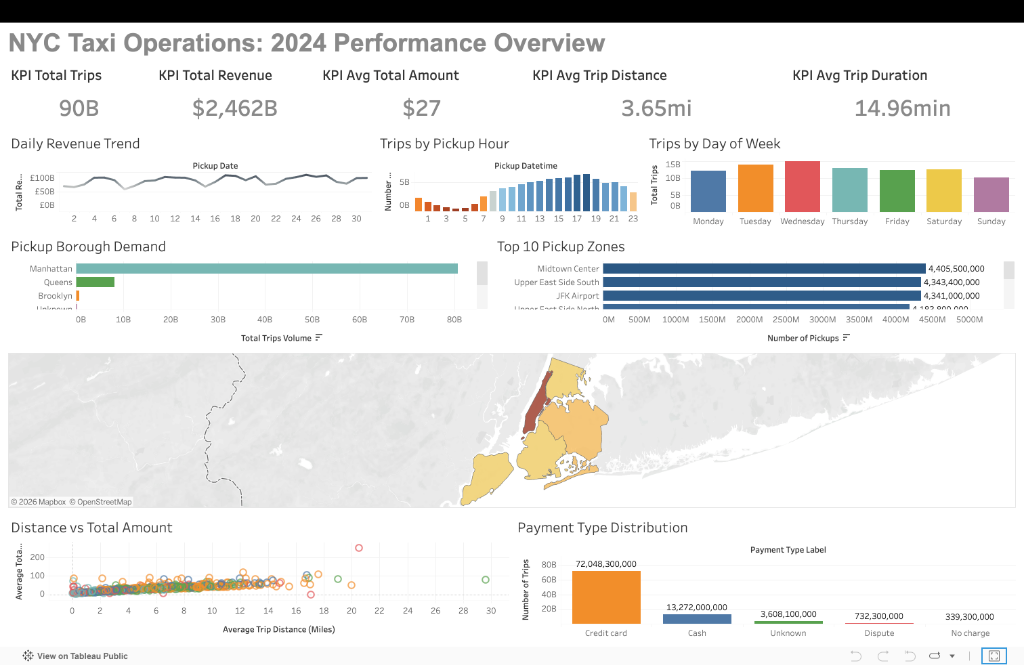

The page's visual inventory and layout, read from the dashboard file:
{"tool":"tableau","page":{"name":"Dashboard 1","canvas":[1000,1000],"units":"permille","ordinal":0},"visuals":[{"type":"text","box":[6.2,10.4,987.7,61.7]},{"type":"worksheet","title":"KPI Total Trips","mark":"Automatic","box":[6.2,72.1,167.6,169.1]},{"type":"worksheet","title":"KPI Total Revenue","mark":"Automatic","box":[173.7,72.1,186,169.1]},{"type":"worksheet","title":"KPI Avg Total Amount","mark":"Automatic","box":[359.7,72.1,238.3,169.1]},{"type":"worksheet","title":"KPI Avg Trip Distance","mark":"Automatic","box":[598,72.1,169.8,169.1]},{"type":"worksheet","title":"KPI Avg Trip Duration","mark":"Automatic","box":[767.9,72.1,226,169.1]},{"type":"worksheet","title":"Daily Revenue Trend","mark":"Line","rows":["total_revenue"],"cols":["pickup_date"],"box":[6.2,241.2,418.9,169.1]},{"type":"worksheet","title":"Trips by Pickup Hour","mark":"Bar","rows":["total_trips"],"cols":["pickup_datetime"],"box":[425.1,241.2,302.1,169.1]},{"type":"worksheet","title":" Trips by Day of Week","mark":"Automatic","rows":["total_trips"],"cols":["pickup_day_name"],"box":[727.1,241.2,266.7,169.1]},{"type":"worksheet","title":"Pickup Borough Demand","mark":"Automatic","rows":["pickup_borough"],"cols":["total_trips"],"box":[6.2,410.3,470.8,338.2]},{"type":"worksheet","title":"Top 10 Pickup Zones","mark":"Automatic","rows":["pickup_zone"],"cols":["total_trips"],"box":[476.9,410.3,516.9,338.2]},{"type":"worksheet","title":"Distance vs Total Amount ","mark":"Automatic","rows":["total_amount"],"cols":["trip_distance"],"box":[6.2,748.5,493.8,241.1]},{"type":"worksheet","title":"Payment Type Distribution","mark":"Bar","rows":["total_trips"],"cols":["payment_type_label"],"box":[500,748.5,493.9,241.1]}]}

Visuals, with their boxes on the dashboard's canvas, which has no fixed pixel size, in thousandths of its width and height (x1, y1, x2, y2). These are canvas units, not pixel positions in the 1024x665 screenshot, which may show the page scaled, cropped or inside an application window:
text: <bbox>6, 10, 994, 72</bbox>
"KPI Total Trips" worksheet: <bbox>6, 72, 174, 241</bbox>
"KPI Total Revenue" worksheet: <bbox>174, 72, 360, 241</bbox>
"KPI Avg Total Amount" worksheet: <bbox>360, 72, 598, 241</bbox>
"KPI Avg Trip Distance" worksheet: <bbox>598, 72, 768, 241</bbox>
"KPI Avg Trip Duration" worksheet: <bbox>768, 72, 994, 241</bbox>
"Daily Revenue Trend" worksheet (Line marks): <bbox>6, 241, 425, 410</bbox>
"Trips by Pickup Hour" worksheet (Bar marks): <bbox>425, 241, 727, 410</bbox>
" Trips by Day of Week" worksheet: <bbox>727, 241, 994, 410</bbox>
"Pickup Borough Demand" worksheet: <bbox>6, 410, 477, 748</bbox>
"Top 10 Pickup Zones" worksheet: <bbox>477, 410, 994, 748</bbox>
"Distance vs Total Amount " worksheet: <bbox>6, 748, 500, 990</bbox>
"Payment Type Distribution" worksheet (Bar marks): <bbox>500, 748, 994, 990</bbox>
